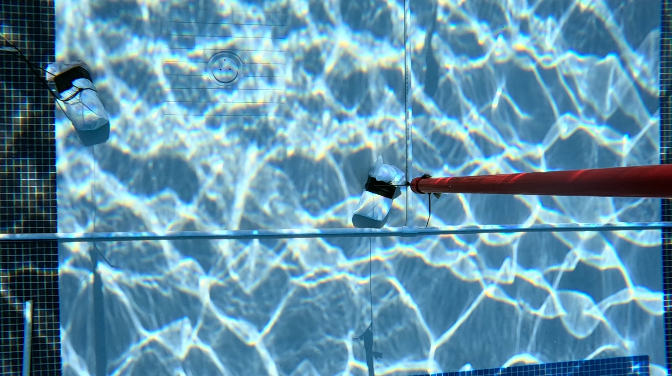sandbag: (47, 59, 108, 131)
